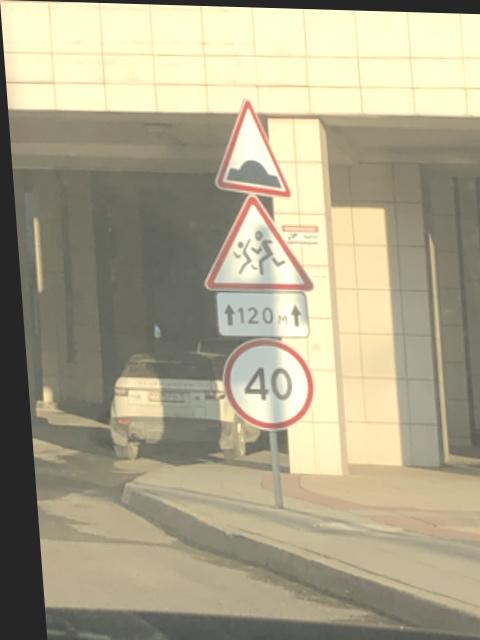limit40: (211, 329, 314, 434)
